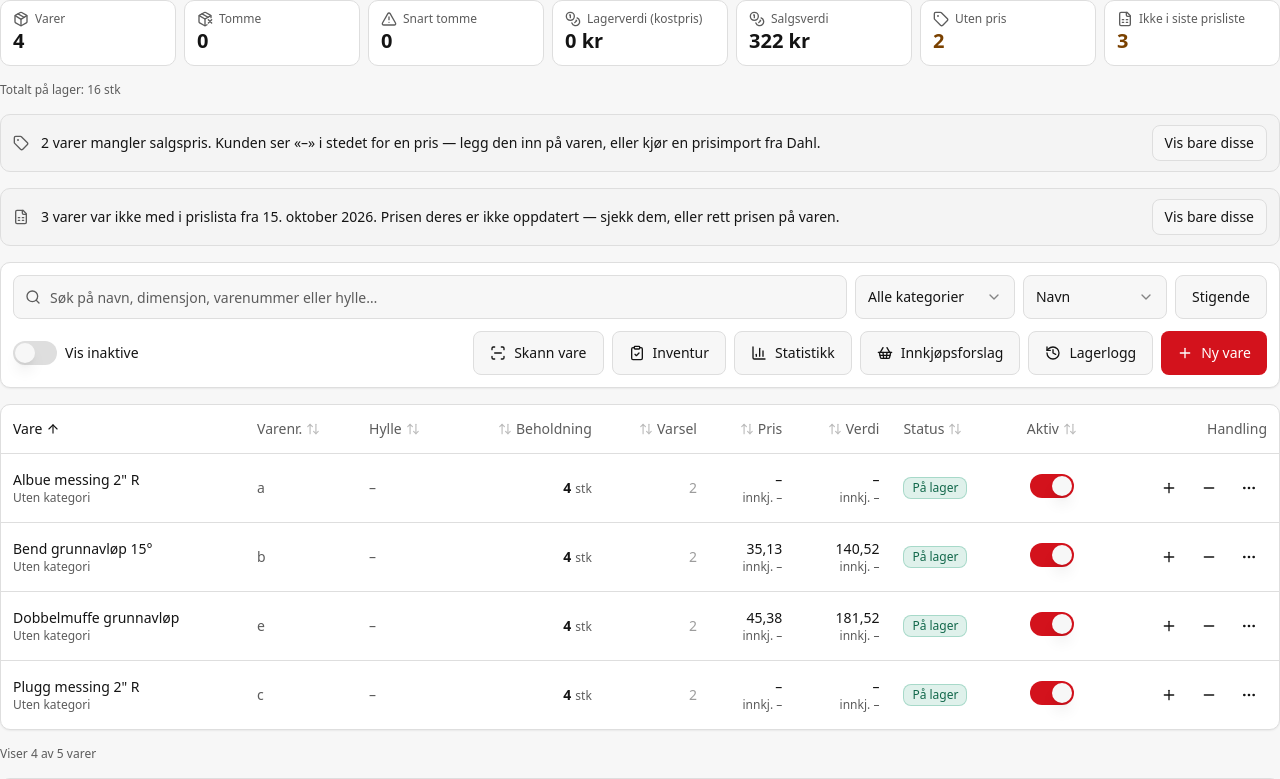
Test: varer uten pris › «Vis bare disse» viser berre varene utan pris, og kan slåast av att
Expected: the text "2 varer mangler salgspris" is shown, [41, 133, 821, 152]
Expected: the text "Bend grunnavløp 15°" is shown, [13, 538, 153, 558]
Click the button "Vis bare disse" in the row of "varer mangler".
click(1209, 143)  # box [1152, 125, 1267, 161]
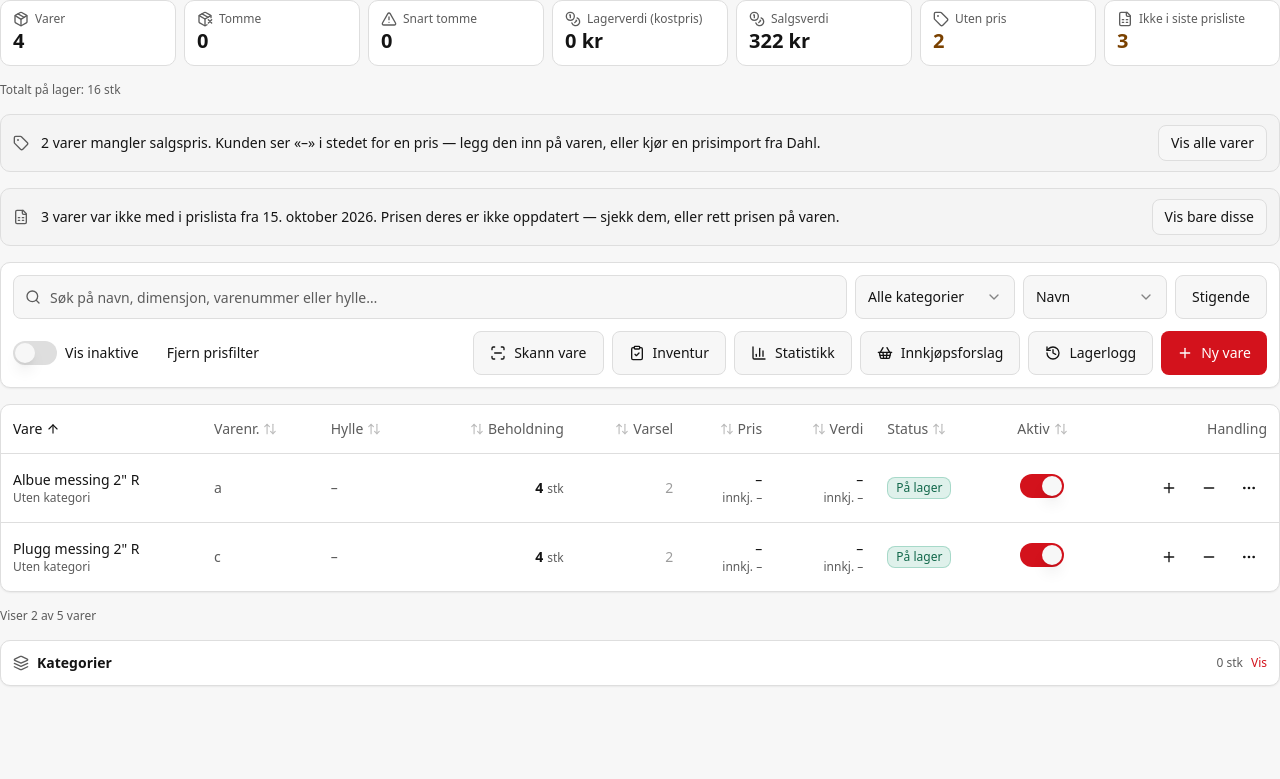
Expected: the text "Albue messing 2\" R" is shown, [13, 470, 139, 488]
Now the text "Bend grunnavløp 15°" is gone
Click the button "Fjern prisfilter".
click(213, 353)  # box [155, 335, 271, 371]
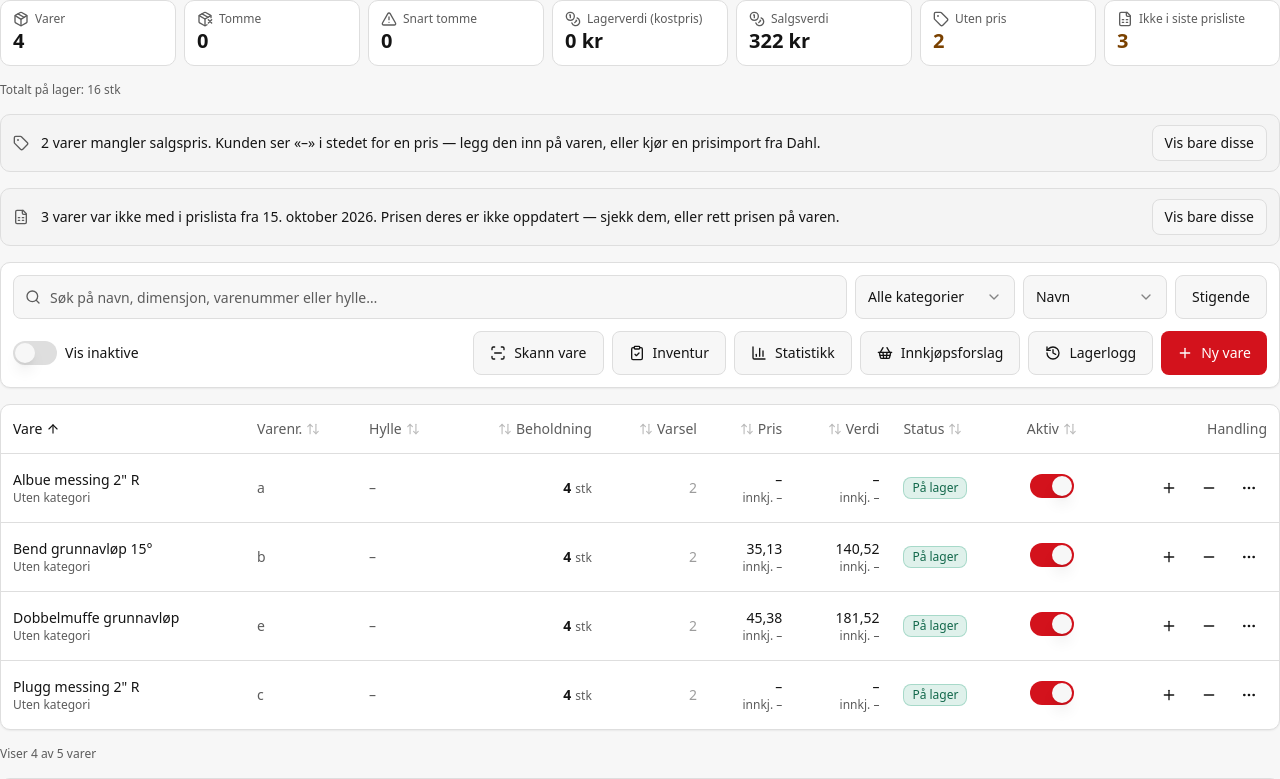
Now the text "Bend grunnavløp 15°" is shown, box [13, 538, 153, 558]
